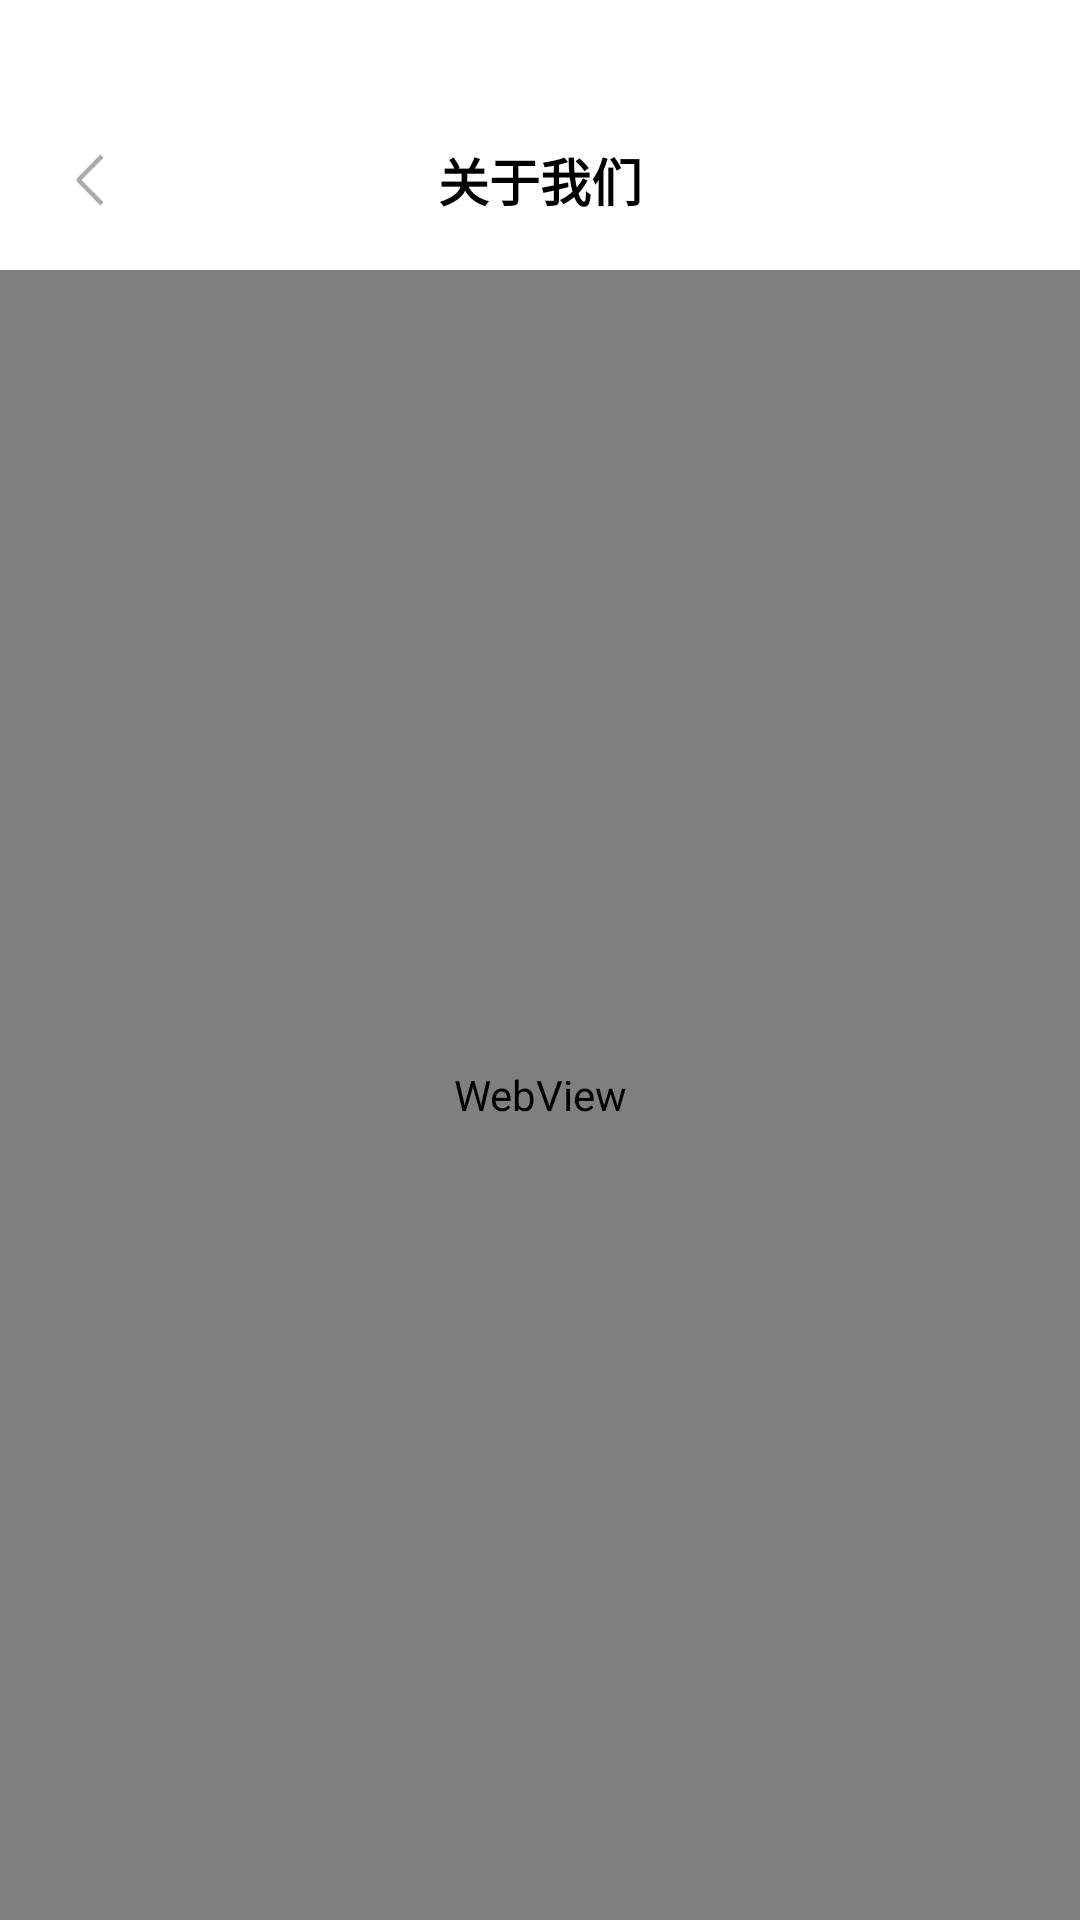

Named icons in this screenshot (1080×1920) and their bounding boxes, (x1, y1, x2, y2):
back: (76, 155, 103, 205)
